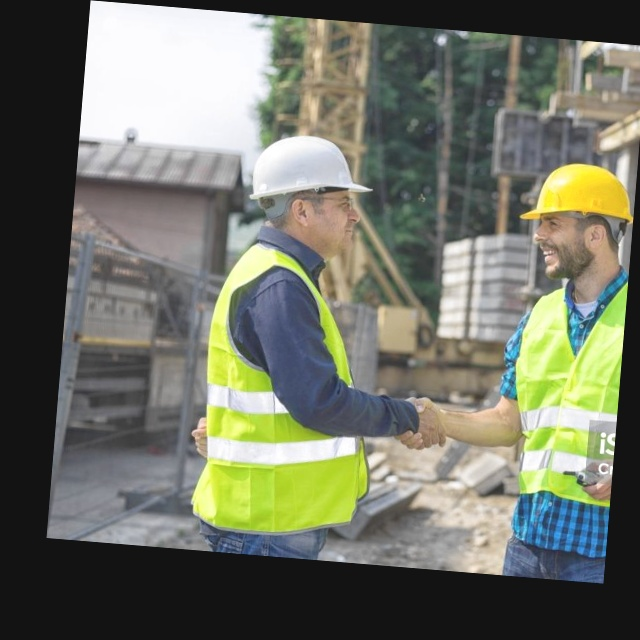Con_Casco: (247, 130, 378, 260), (516, 157, 638, 286)
Con_Chaleco: (191, 248, 389, 521), (506, 275, 628, 506)
